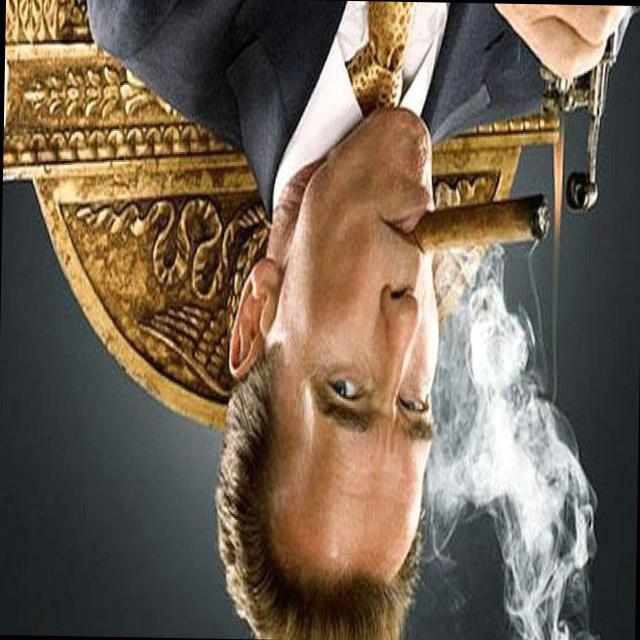cigarette: (392, 159, 564, 288)
